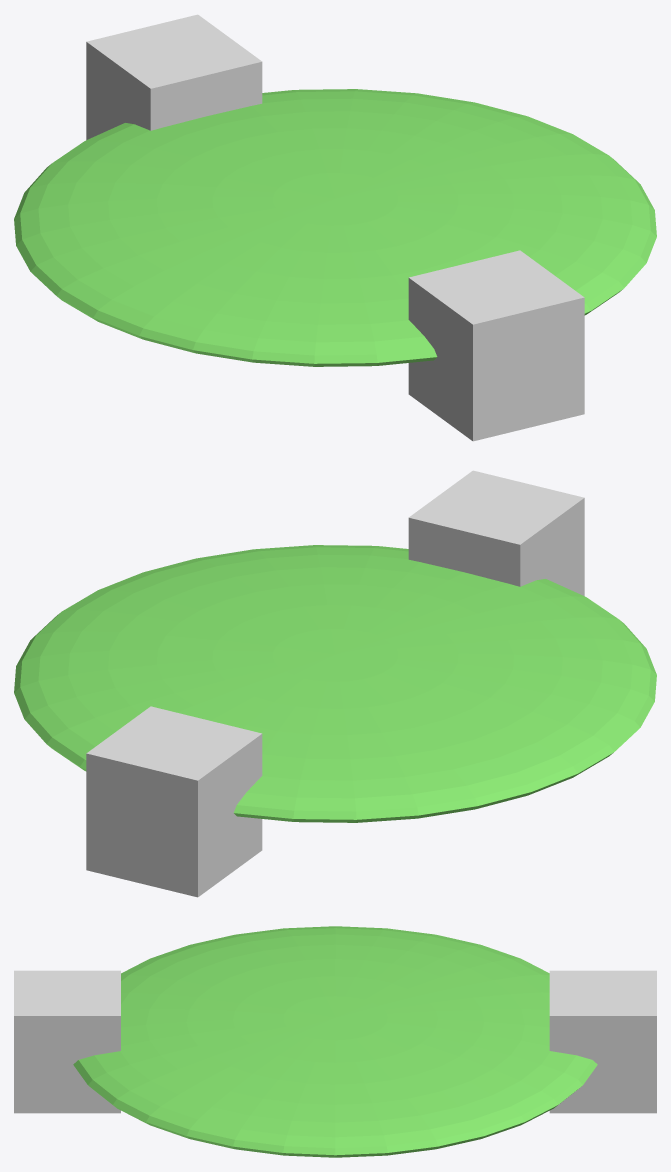
Rendered from example.dae.
The picture shows the model from 3 angles, top to bottom: view 1: azimuth 30°, elevation 25°; view 2: azimuth 150°, elevation 25°; view 3: azimuth 270°, elevation 25°; orthographic projection. The views are drawn at different scales.
Parts seen in each view (by area): view 1: Sphere, Cube, Cube.001; view 2: Sphere, Cube.001, Cube; view 3: Sphere, Cube.001, Cube.
Part boxes in pixels (x1,y1,x2,y2): Sphere: (14, 89, 656, 366); Cube: (408, 250, 584, 441); Cube.001: (86, 14, 262, 139); Sphere: (14, 545, 656, 822); Cube.001: (86, 706, 262, 897); Cube: (408, 470, 584, 595); Sphere: (73, 926, 597, 1157); Cube.001: (549, 970, 656, 1113); Cube: (14, 970, 120, 1113).
Bounding box in the file's own units: 10 × 12 × 2.
